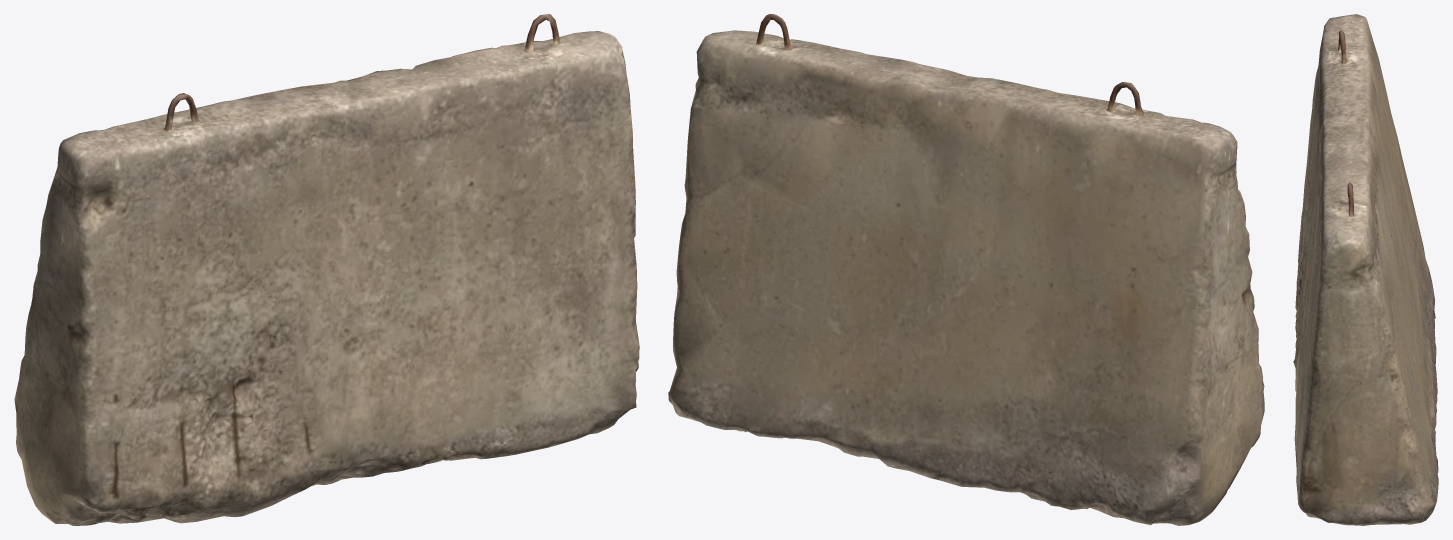
File: barrier2.glb
3 renders of one model, left to right at view 1: azimuth 30°, elevation 25°; view 2: azimuth 150°, elevation 25°; view 3: azimuth 270°, elevation 25°, orthographic. The views are drawn at different scales.
Parts seen in each view (by area): view 1: concrete_road_barrier_02; view 2: concrete_road_barrier_02; view 3: concrete_road_barrier_02.
Part boxes in pixels (x1,y1,x2,y2): concrete_road_barrier_02: [14, 14, 639, 525]; concrete_road_barrier_02: [668, 14, 1264, 525]; concrete_road_barrier_02: [1293, 14, 1438, 525].
Size of the model in its own units: 1.56 by 1.11 by 0.4421.
1 material, 1 textured.
